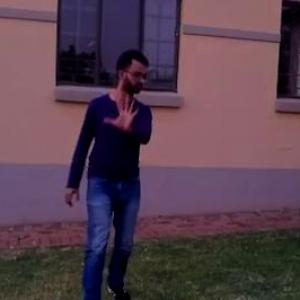follow_hand: (102, 88, 142, 134)
